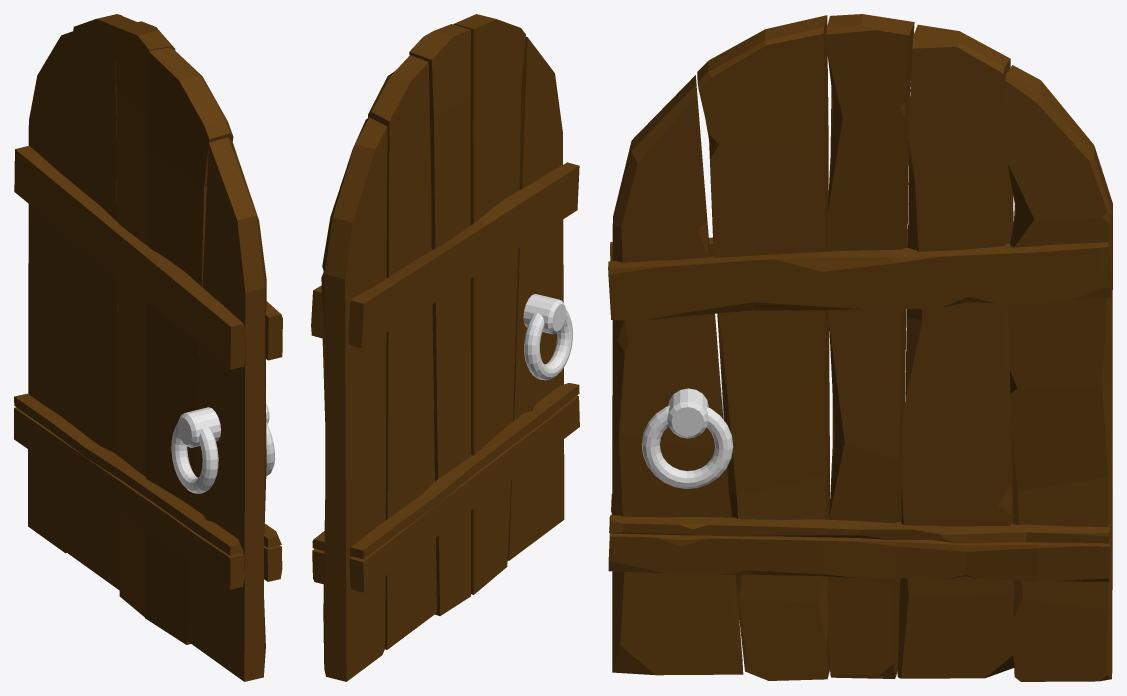
File: BWP_Door.fbx
3 renders of one model, left to right at view 1: azimuth 30°, elevation 25°; view 2: azimuth 150°, elevation 25°; view 3: azimuth 270°, elevation 25°, orthographic. The views are drawn at different scales.
Parts seen in each view (by area): view 1: Torus.001; view 2: Torus.001; view 3: Torus.001.
Boxes of the visible parts, x1=… form: Torus.001: x1=14, y1=14, x2=282, y2=681; Torus.001: x1=311, y1=14, x2=579, y2=681; Torus.001: x1=608, y1=14, x2=1112, y2=681.
Size of the model in its own units: 165 by 1149 by 801.
